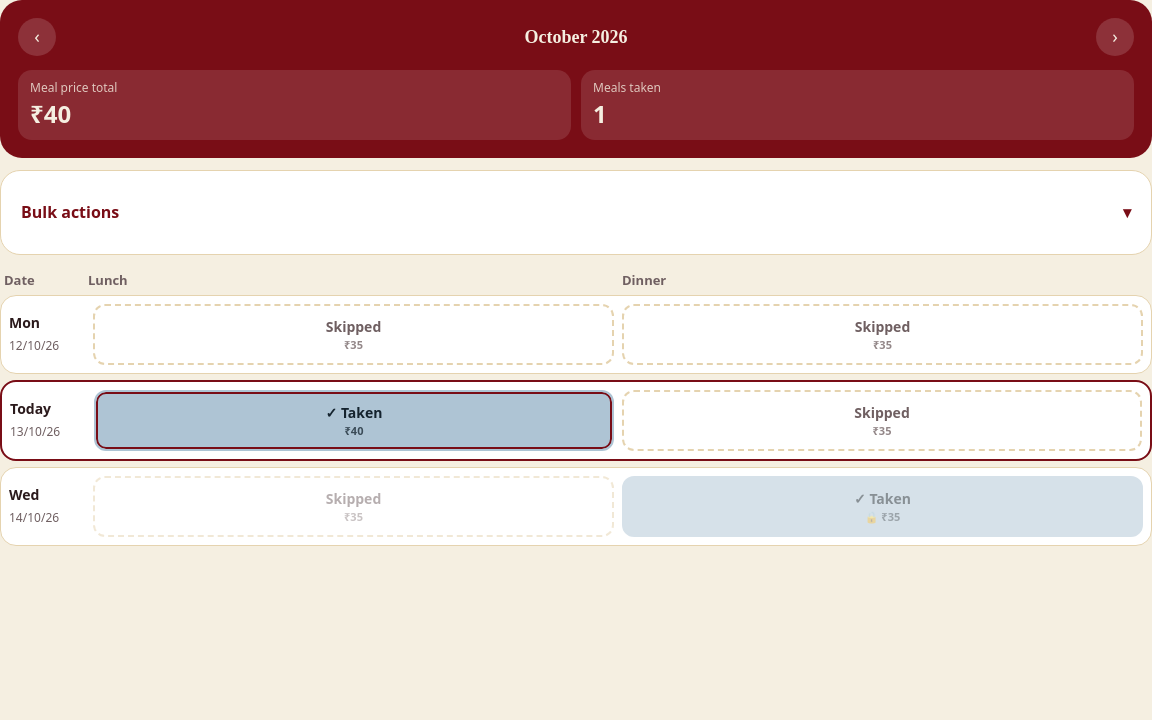
Test case: checking a skipped meal from the sheet updates the UI optimistically
Step 1. Click the button named "Dinner on 13/10/26" → x=882, y=420, box [622,390,1142,451]
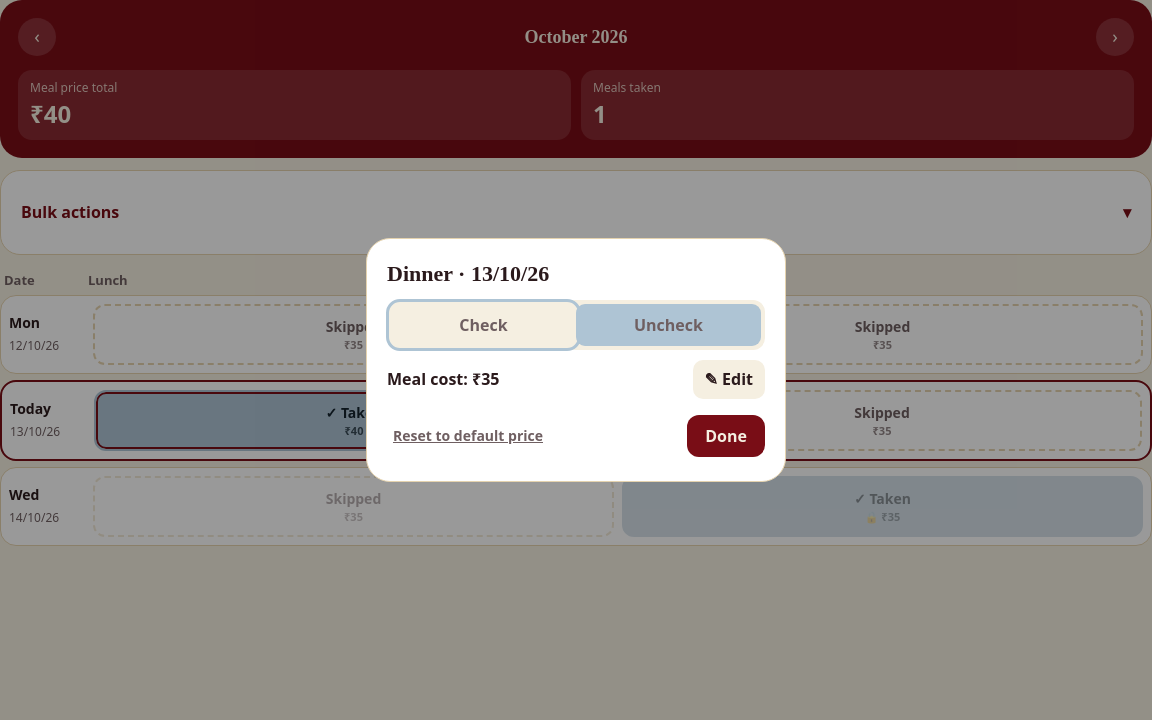
Step 2. Click the button "Check" → x=484, y=325, box [391,304,576,346]
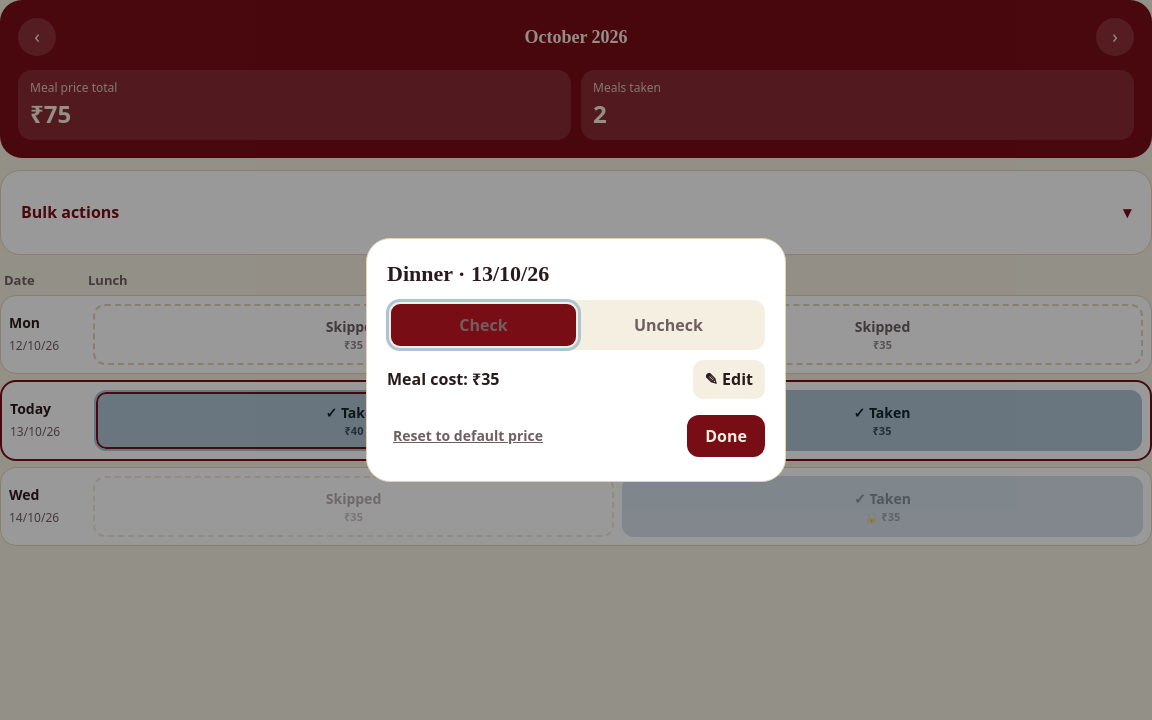
Now the button named "Dinner on 13/10/26" shows "✓ Taken", box [622,390,1142,451]
